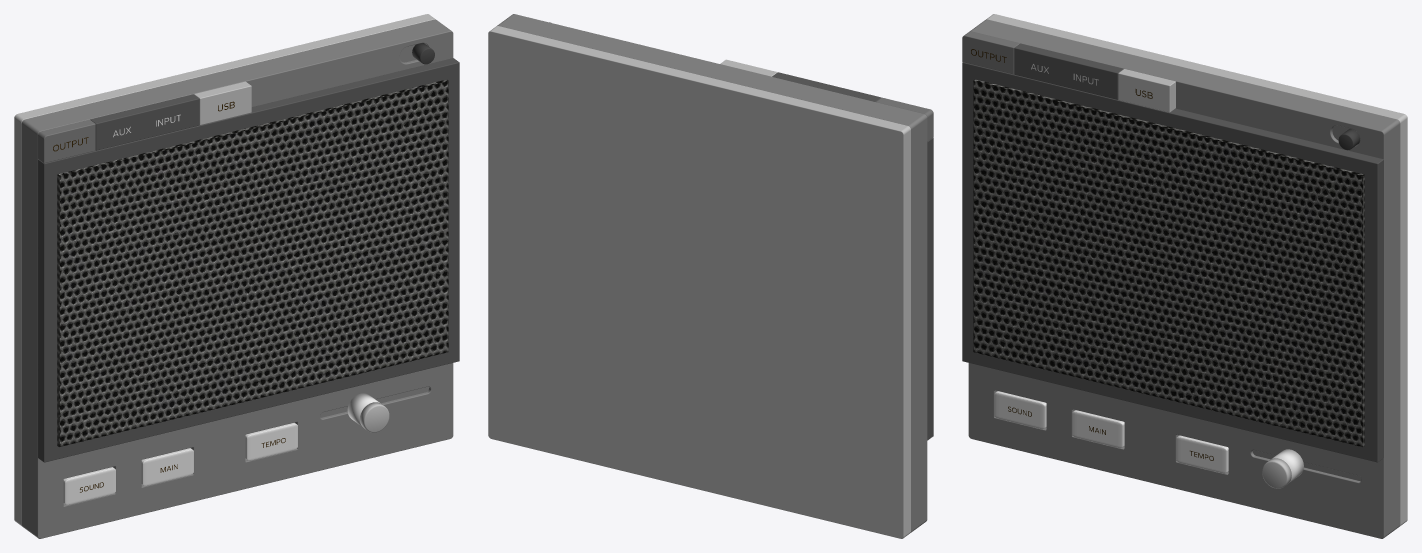
The model's file is Mixer_speaker.glb.
The picture shows the model from 3 angles, left to right: view 1: azimuth 30°, elevation 25°; view 2: azimuth 150°, elevation 25°; view 3: azimuth 330°, elevation 25°; orthographic projection.
Visible parts, largest first — view 1: baseSpeakersound, baseSpeakerpanel, baseSpeakerframe, baseSpeaker, baseSpeakerauxinput, baseSpeakeroutput, baseSpeakerusb, btnSpeakerSound, btnSpeakermain, btnSpeakertempo, faderSpeakertop; view 2: baseSpeaker, baseSpeakerpanel, baseSpeakerframe, baseSpeakerauxinput, baseSpeakeroutput; view 3: baseSpeakersound, baseSpeakerpanel, baseSpeakerframe, baseSpeaker, baseSpeakerauxinput, baseSpeakerusb, baseSpeakeroutput, btnSpeakerSound, btnSpeakertempo, btnSpeakermain, faderSpeakertop.
Boxes of the visible parts, bbox=[...] form: baseSpeakersound: bbox=[57, 79, 448, 446]; baseSpeakerpanel: bbox=[21, 19, 453, 538]; baseSpeakerframe: bbox=[38, 58, 459, 462]; baseSpeaker: bbox=[14, 14, 435, 525]; baseSpeakerauxinput: bbox=[90, 94, 199, 150]; baseSpeakeroutput: bbox=[38, 119, 95, 163]; baseSpeakerusb: bbox=[194, 81, 251, 125]; btnSpeakerSound: bbox=[63, 467, 115, 505]; btnSpeakermain: bbox=[141, 448, 193, 486]; btnSpeakertempo: bbox=[245, 422, 297, 460]; faderSpeakertop: bbox=[359, 402, 389, 432]; baseSpeaker: bbox=[488, 26, 910, 538]; baseSpeakerpanel: bbox=[497, 14, 927, 532]; baseSpeakerframe: bbox=[927, 137, 933, 440]; baseSpeakerauxinput: bbox=[772, 72, 881, 101]; baseSpeakeroutput: bbox=[876, 97, 933, 141]; baseSpeakersound: bbox=[973, 79, 1364, 446]; baseSpeakerpanel: bbox=[968, 19, 1400, 538]; baseSpeakerframe: bbox=[962, 62, 1383, 462]; baseSpeaker: bbox=[986, 14, 1407, 525]; baseSpeakerauxinput: bbox=[1014, 43, 1123, 99]; baseSpeakerusb: bbox=[1118, 69, 1175, 112]; baseSpeakeroutput: bbox=[962, 31, 1019, 74]; btnSpeakerSound: bbox=[994, 391, 1046, 429]; btnSpeakertempo: bbox=[1176, 435, 1228, 473]; btnSpeakermain: bbox=[1072, 410, 1124, 448]; faderSpeakertop: bbox=[1262, 458, 1291, 488].
Size of the model in its own units: 1.28 by 1.2 by 0.2147.
9 materials, 1 textured.
